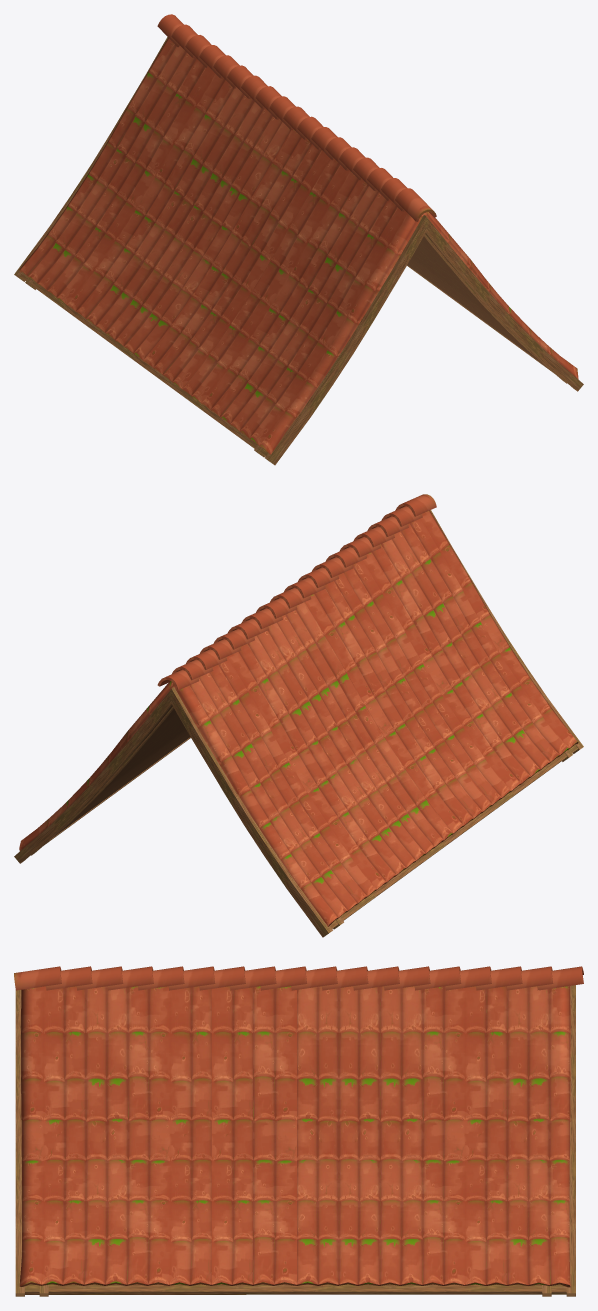
The model's file is Roof_RoundTiles_8x12.glb.
3 renders of one model, top to bottom at view 1: azimuth 30°, elevation 25°; view 2: azimuth 150°, elevation 25°; view 3: azimuth 270°, elevation 25°, orthographic. The views are drawn at different scales.
Parts seen in each view (by area): view 1: Roof_RoundTiles_8x12; view 2: Roof_RoundTiles_8x12; view 3: Roof_RoundTiles_8x12.
Part boxes in pixels (bbox=[...]): Roof_RoundTiles_8x12: bbox=[14, 14, 583, 465]; Roof_RoundTiles_8x12: bbox=[14, 494, 583, 937]; Roof_RoundTiles_8x12: bbox=[14, 966, 583, 1296].
Size of the model in its own units: 9.95 by 6.78 by 14.13.
Materials: 2 (2 with a texture image).
